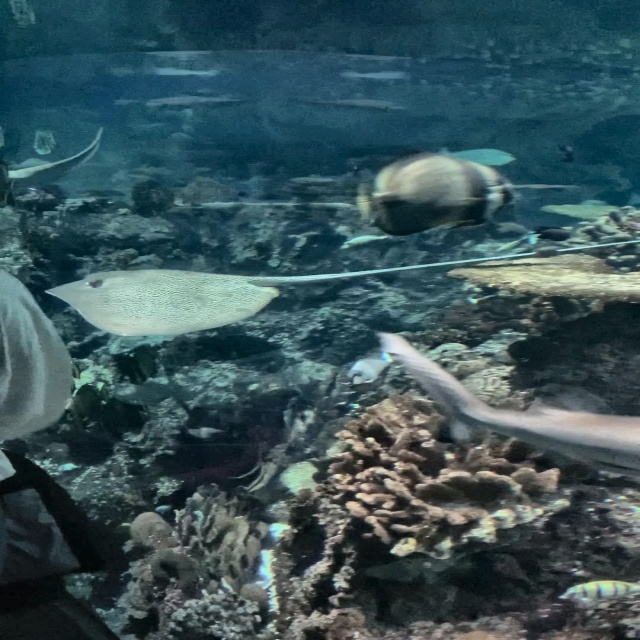fish: (355, 150, 520, 239), (3, 272, 87, 442), (436, 147, 520, 166)
shark: (380, 330, 639, 477)
stingray: (43, 269, 283, 336)
